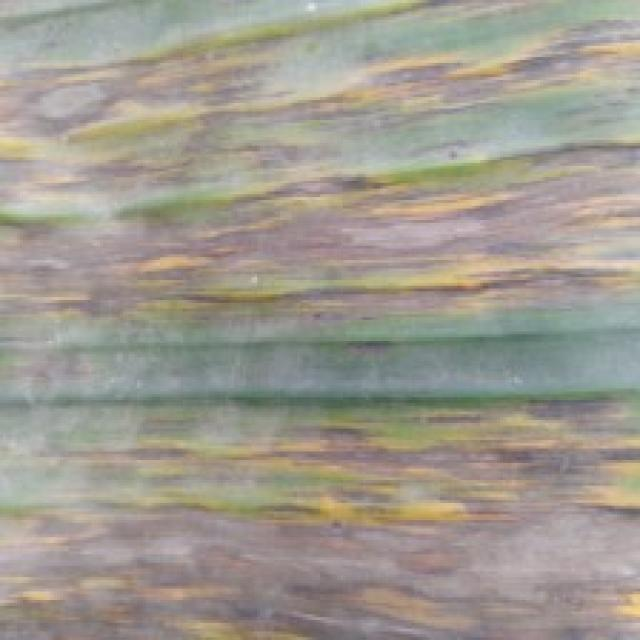Early_leaf_spot: (1, 32, 640, 394), (0, 393, 640, 640)
